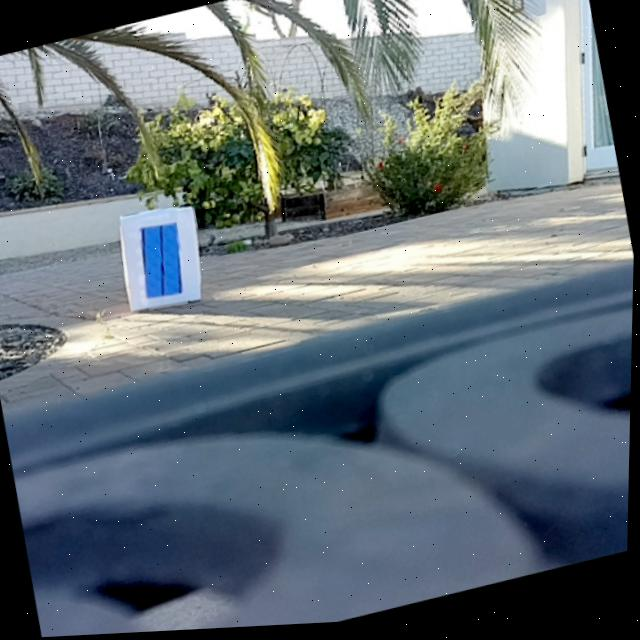led: (141, 218, 190, 299)
